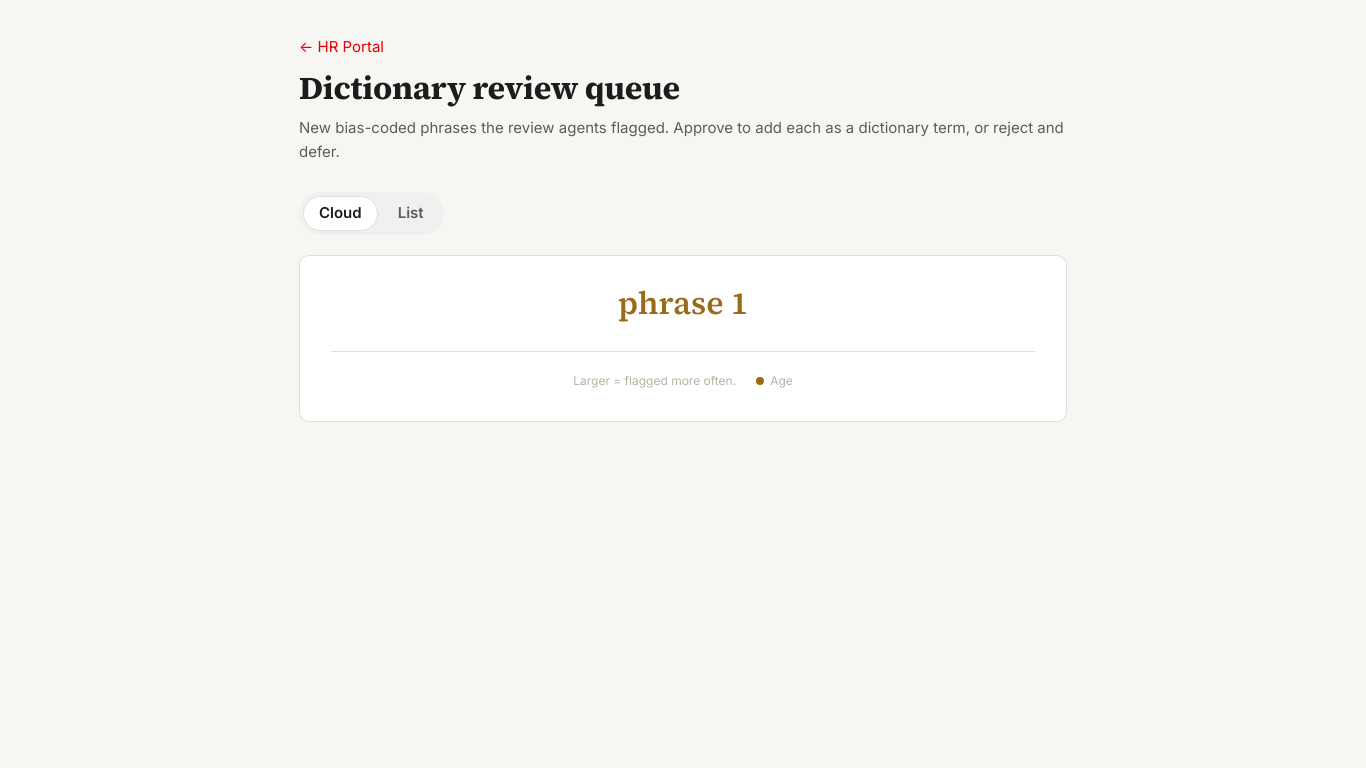
HrDictionaryReview › opens the review modal from a word in the cloud
Click the button "phrase 1" at (683, 303), box [618,287,748,319]
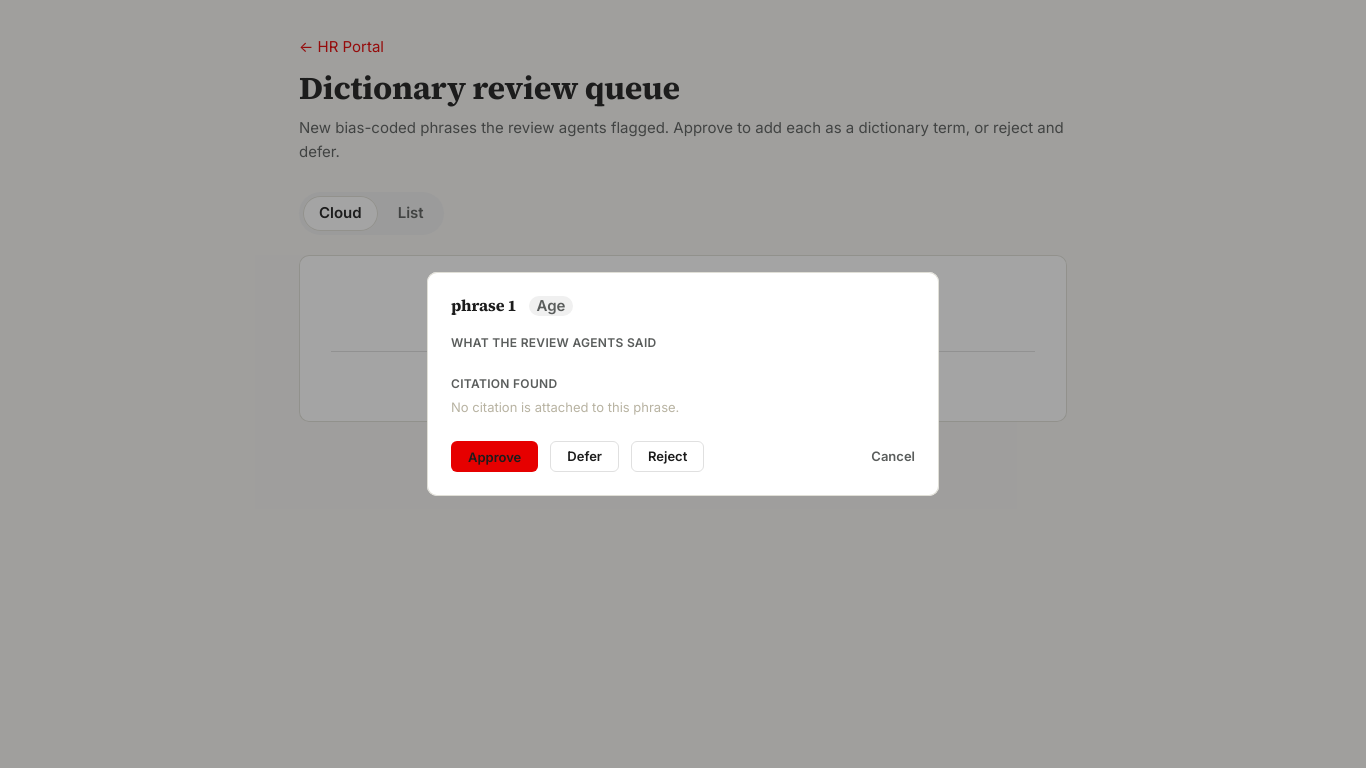
Expected: the heading "What the review agents said" is shown, [451,335,656,350]
